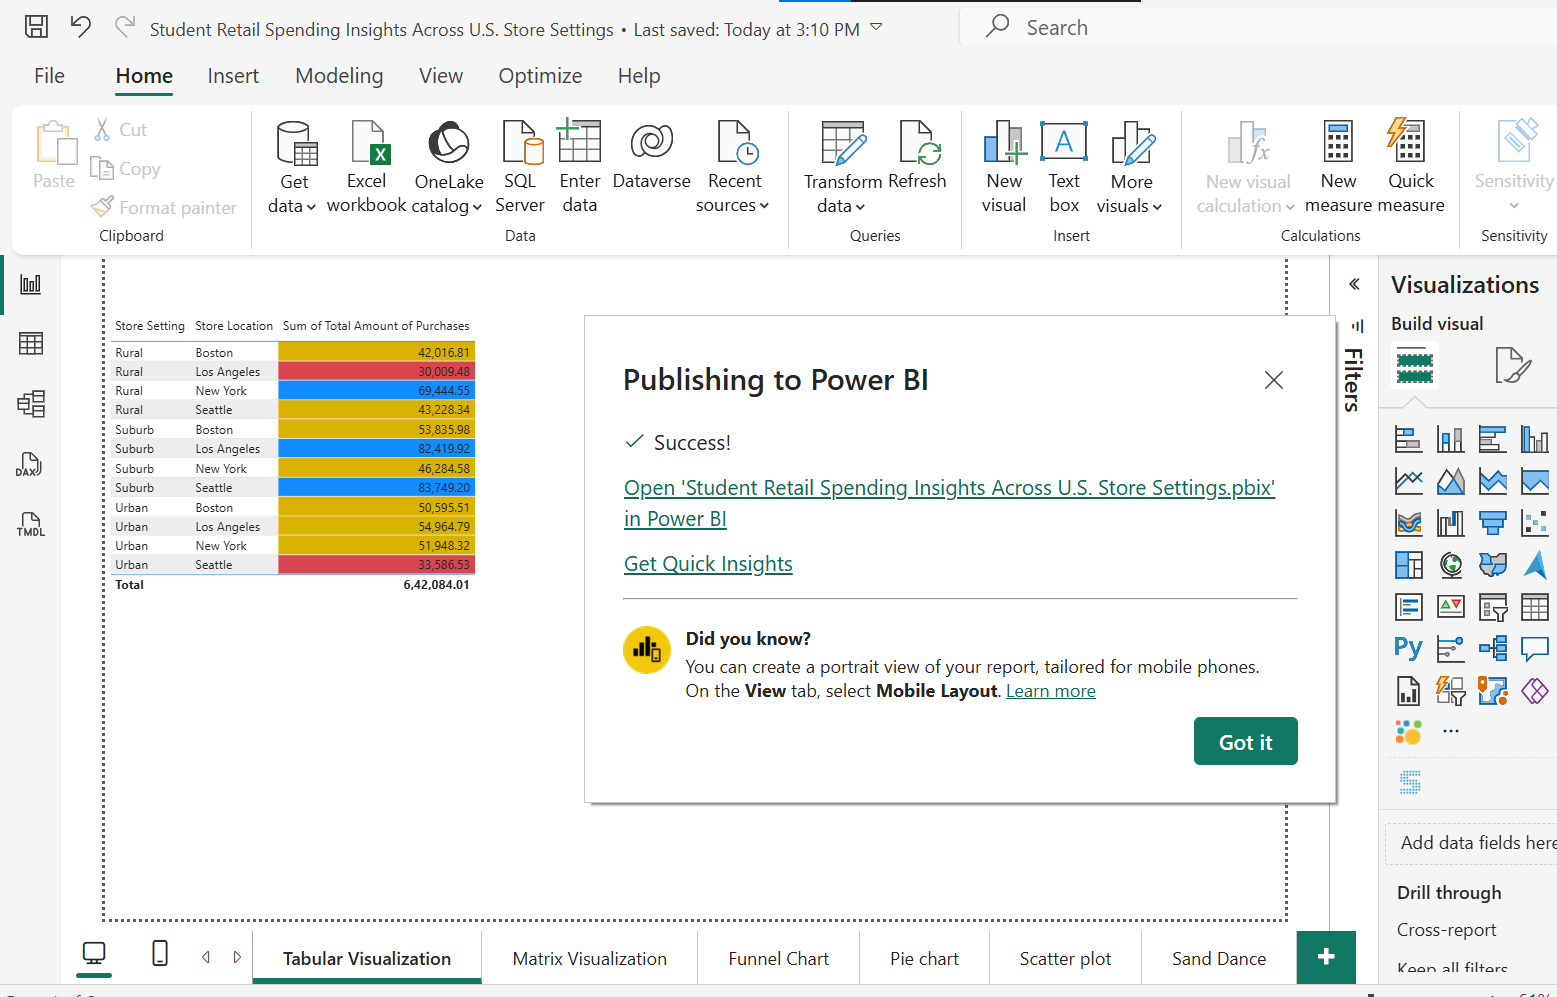

Layout of this report page (visuals, bound fields, positions):
{"tool":"powerbi","page":{"name":"Tabular Visualization","canvas":[1280,720],"ordinal":0},"visuals":[{"type":"tableEx","fields":{"Values":["Student Survey.Store Setting","Student Survey.Store Location","Sum(Student Survey.Total Amount of Purchases)"]},"box":[0,60.5,1279.4,659.5],"z":0}]}

Visuals, with their boxes on the page's 1280x720 design canvas (x1, y1, x2, y2). These are canvas units, not pixel positions in the 1557x997 screenshot, which may show the page scaled, cropped or inside an application window:
tableEx - Student Survey.Store Setting x Student Survey.Store Location: [x1=0, y1=60, x2=1279, y2=720]
